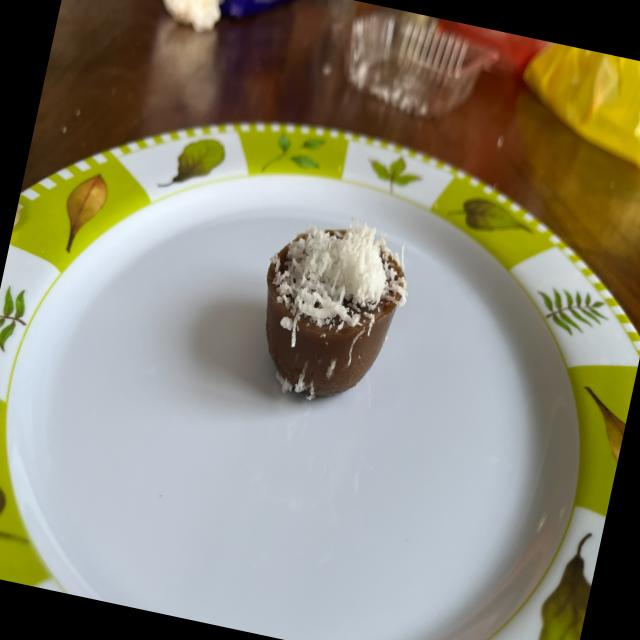Kuih lompang: (265, 221, 407, 400)
